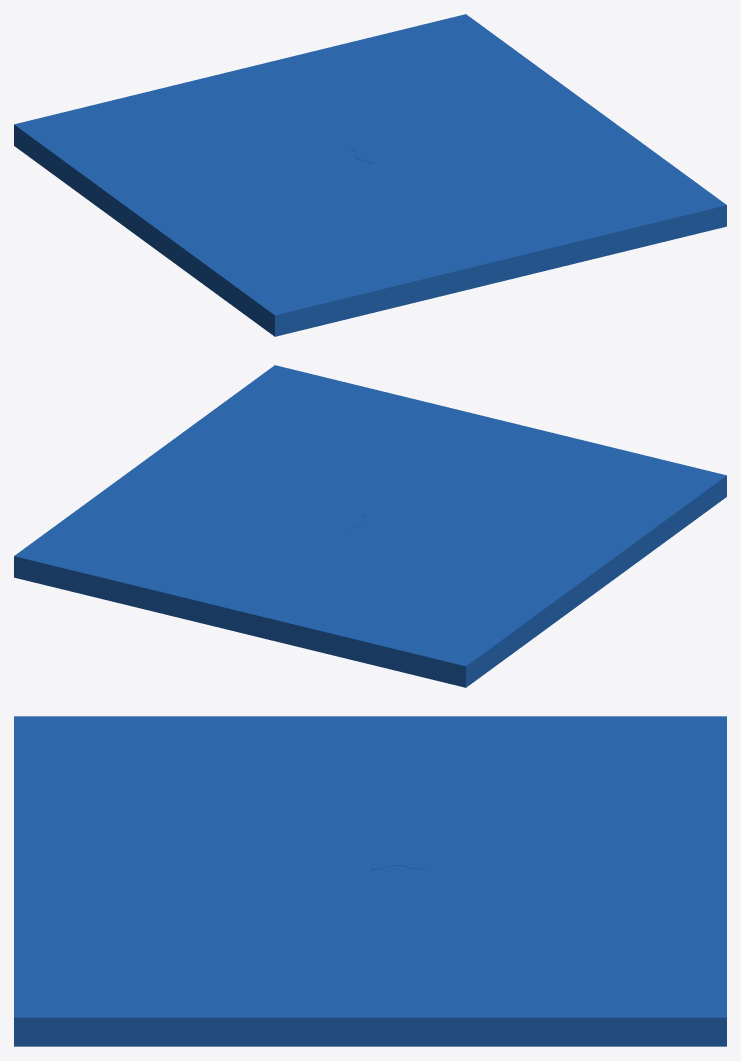
The model's file is Water.fbx.
3 renders of one model, top to bottom at view 1: azimuth 30°, elevation 25°; view 2: azimuth 150°, elevation 25°; view 3: azimuth 270°, elevation 25°, orthographic. The views are drawn at different scales.
Parts seen in each view (by area): view 1: Water collider ocean; view 2: Water collider ocean; view 3: Water collider ocean.
Boxes of the visible parts, <box> form: Water collider ocean: <box>14,14,726,336</box>; Water collider ocean: <box>14,365,726,687</box>; Water collider ocean: <box>14,716,726,1046</box>.
Size of the model in its own units: 981609 by 46012 by 981609.
